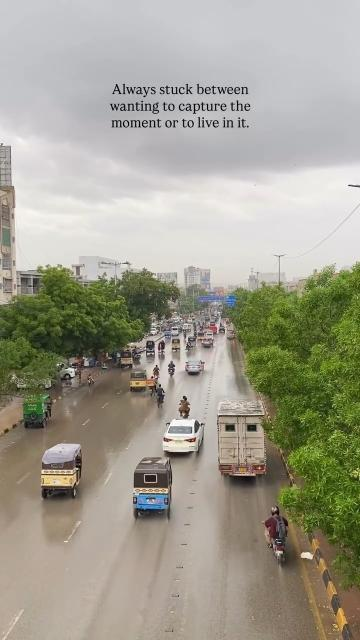Bike: (268, 539, 289, 568), (154, 394, 164, 411), (181, 411, 188, 419)
Car: (161, 418, 205, 459), (183, 358, 205, 376)
Person: (262, 499, 290, 543), (180, 395, 189, 411), (154, 383, 165, 396)
Rickshaw: (128, 454, 177, 520), (37, 442, 84, 502), (19, 393, 53, 431), (128, 368, 148, 394)
Truck: (211, 392, 269, 483)
